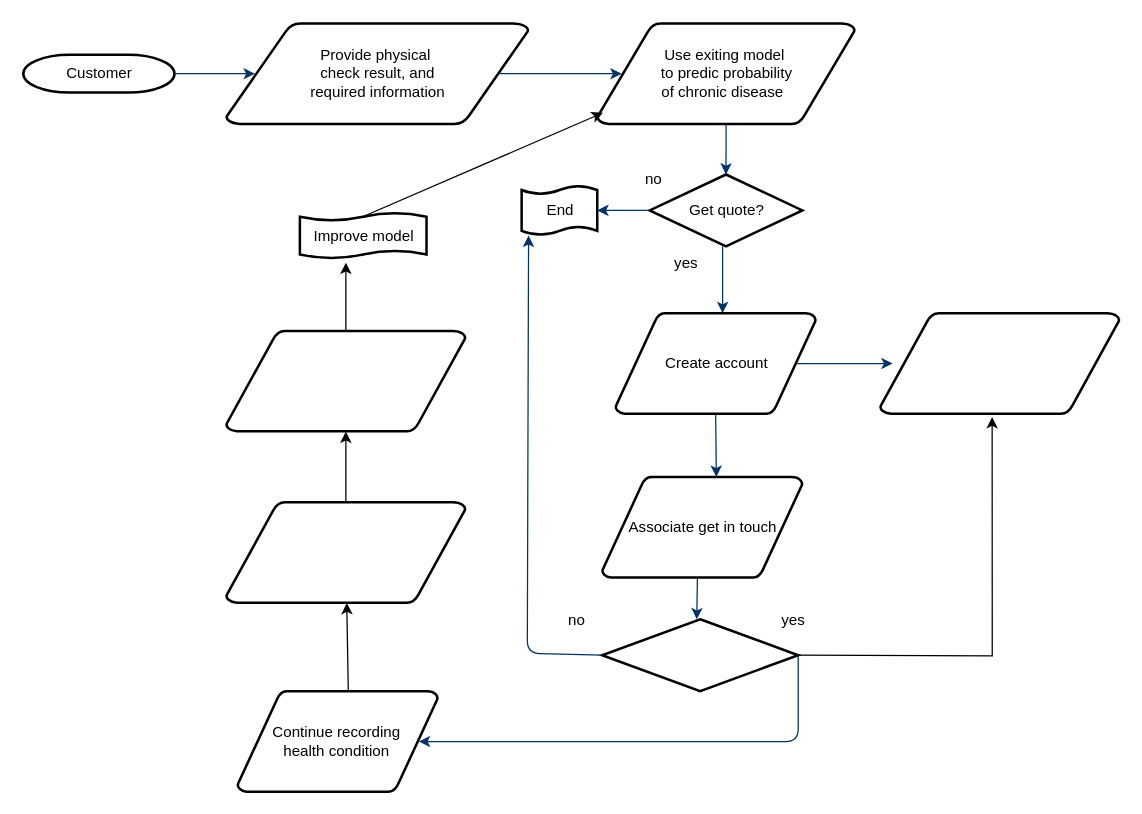
Image size: 1142x814. Some labels were removed from this diagram. The shapes that lost their labels are listed below. From the top down, each one's centre as x and y in pixels, then its label:
(345,380): Train RF model.
(999,363): Store information in Structured database
(345,552): Input body data into unstructured dataset on the GCP cloud to improv dataset
(699,654): Buy Insurance?
